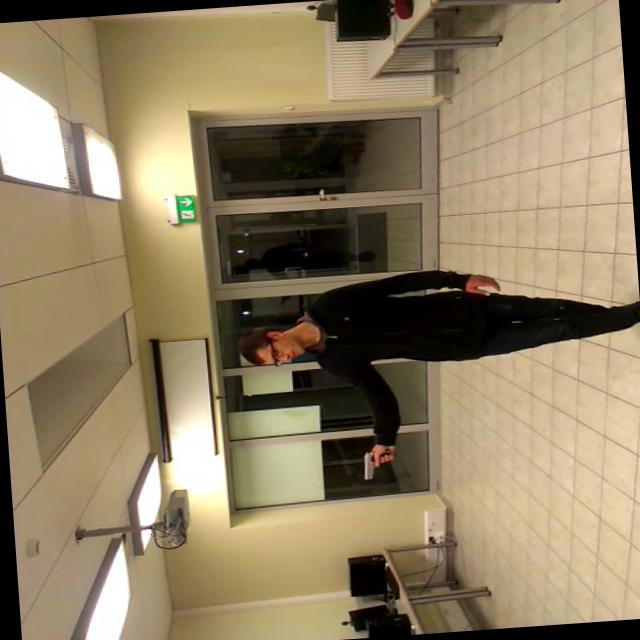handgun: (354, 442, 398, 481)
